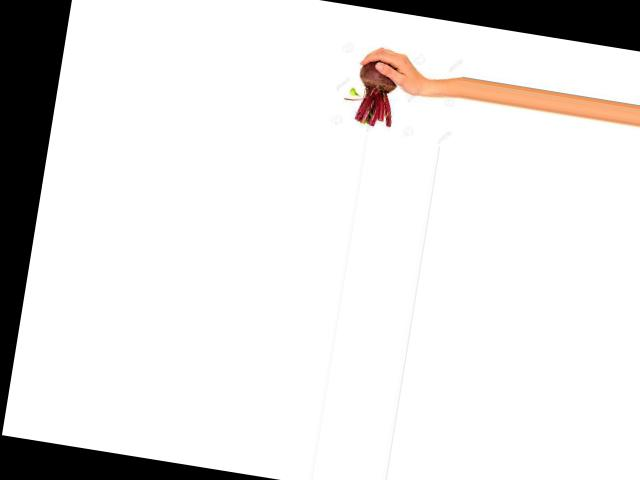beet: (339, 55, 399, 128)
